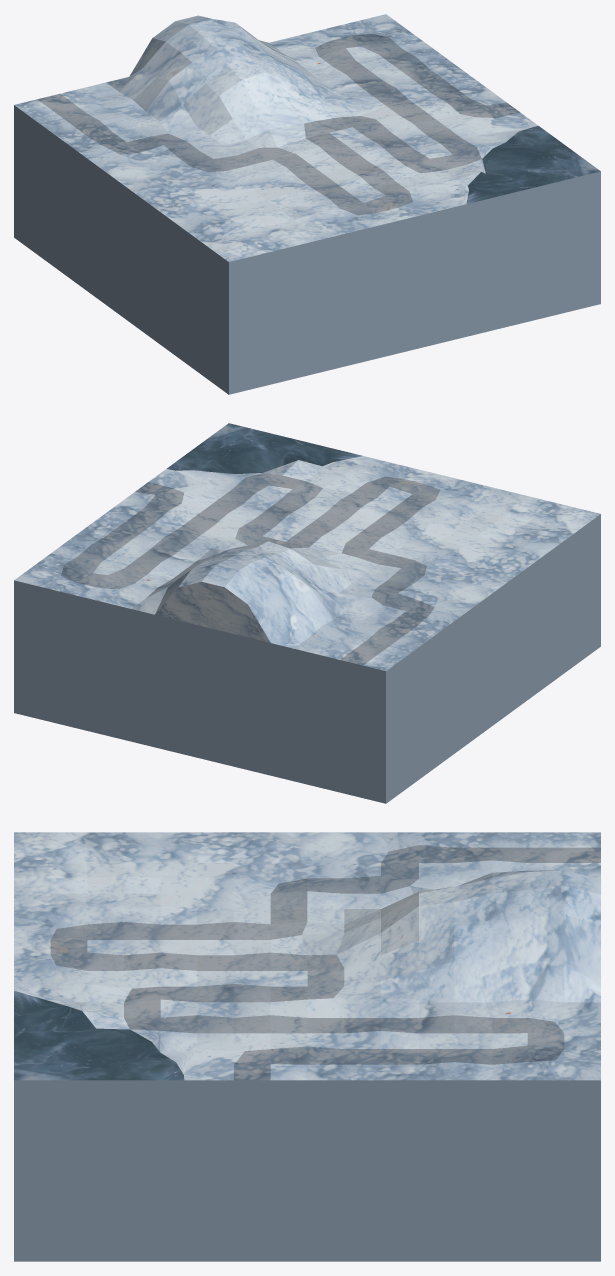
Rendered from mapa.fbx.
The picture shows the model from 3 angles, top to bottom: view 1: azimuth 30°, elevation 25°; view 2: azimuth 150°, elevation 25°; view 3: azimuth 270°, elevation 25°; orthographic projection. The views are drawn at different scales.
Parts seen in each view (by area): view 1: Cube; view 2: Cube; view 3: Cube.
Part boxes in pixels (<box>): Cube: <box>14,14,600,394</box>; Cube: <box>14,423,600,803</box>; Cube: <box>14,832,600,1261</box>.
Size of the model in its own units: 2900 by 1367 by 2900.
